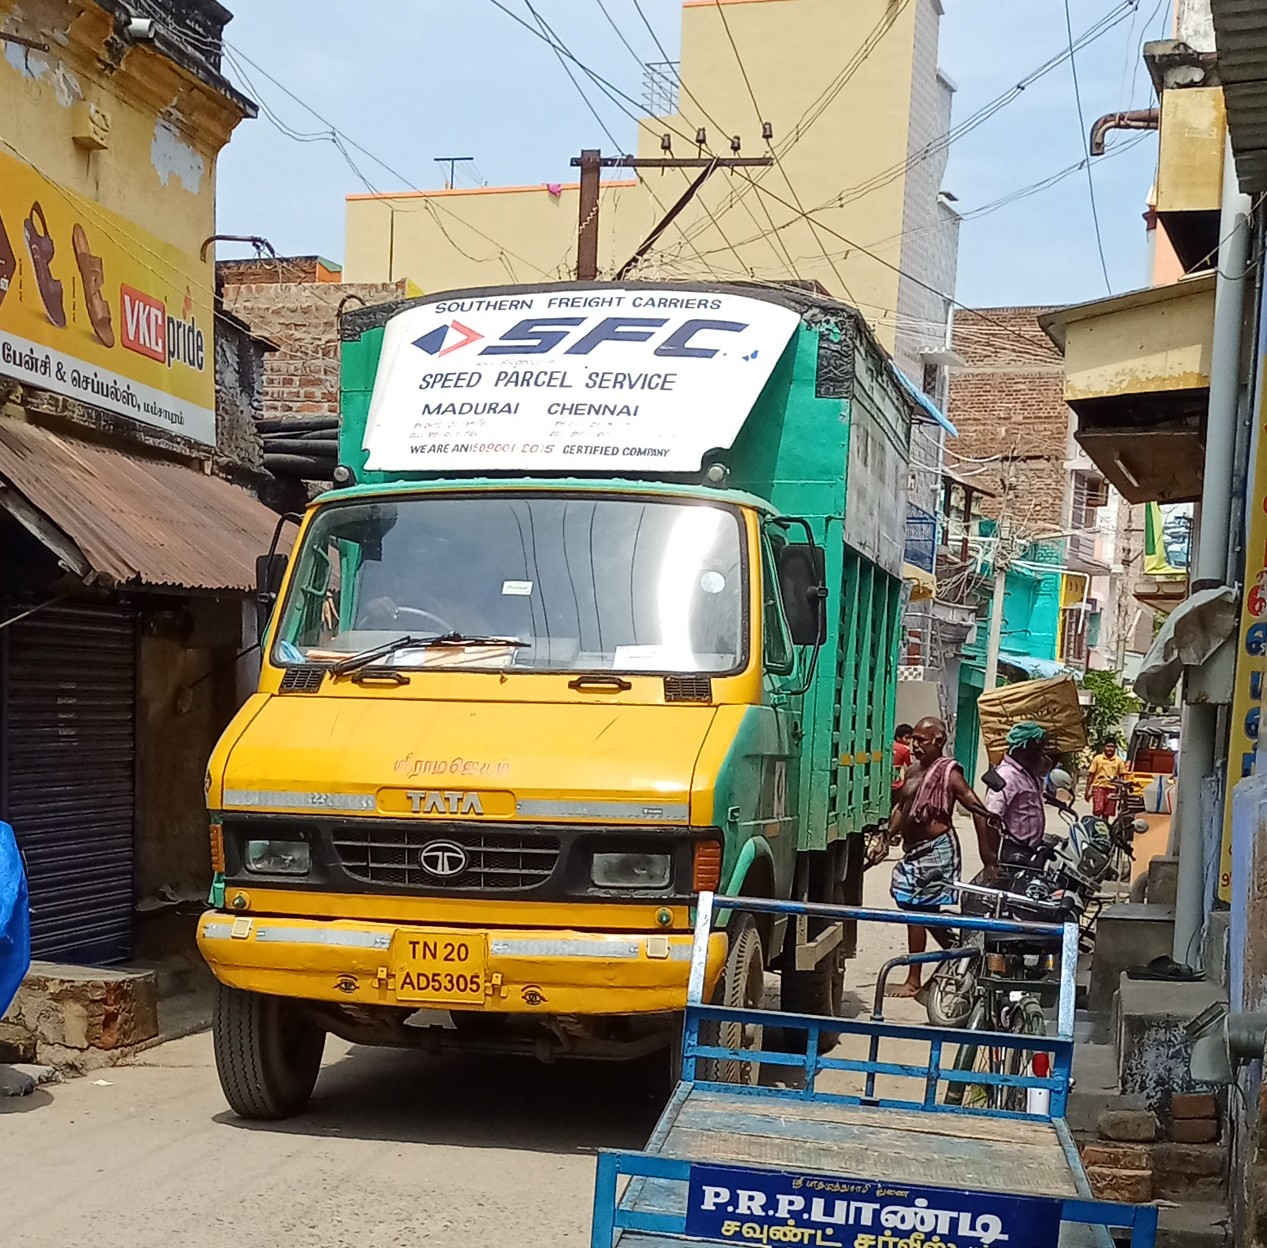lorry: (230, 207, 971, 1088)
plate: (354, 922, 532, 1018)
